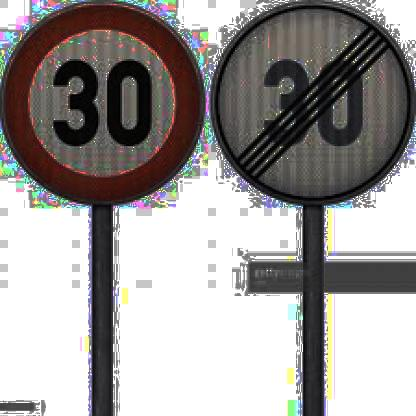Speed Limit -30-: (0, 0, 205, 206)
